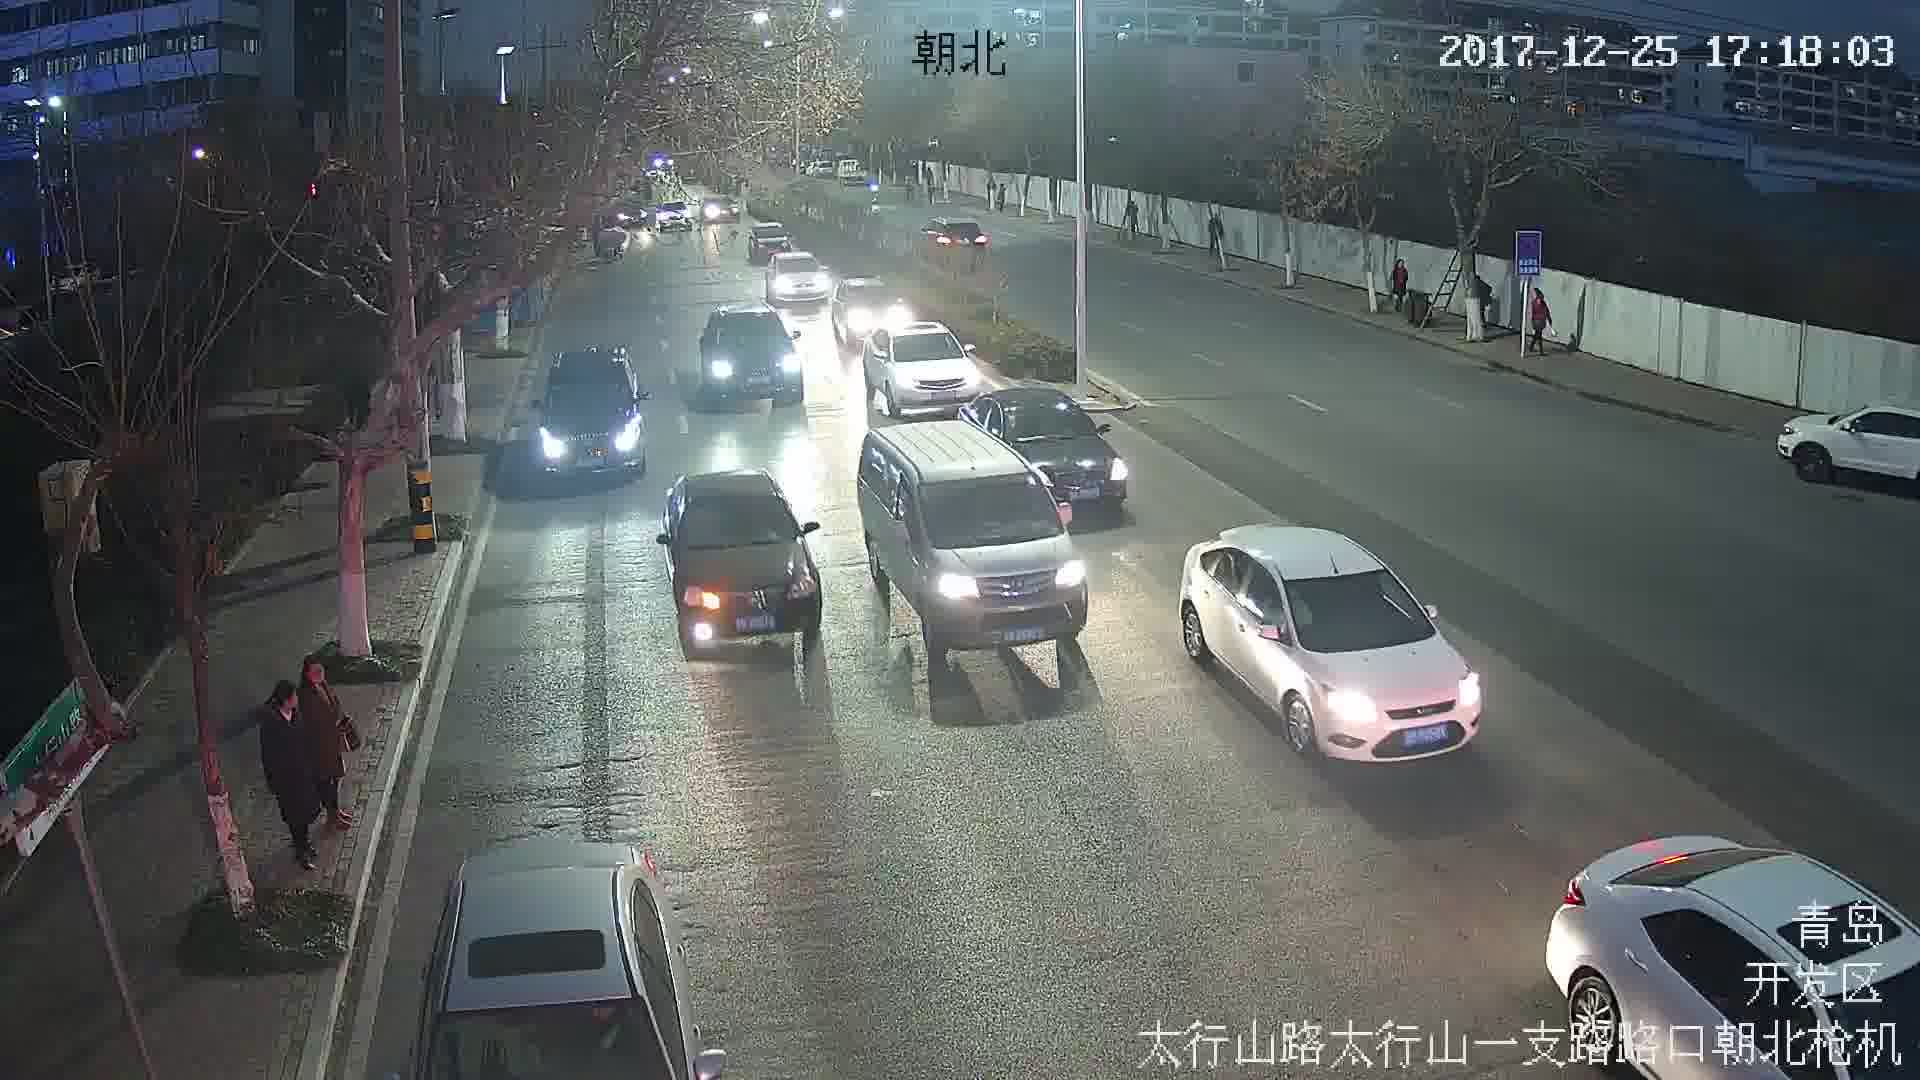car: (1174, 521, 1482, 762), (856, 428, 1091, 645), (657, 470, 825, 646), (530, 344, 653, 491), (698, 302, 805, 409), (866, 328, 982, 414), (914, 219, 988, 270), (773, 259, 830, 302)
person: (303, 657, 360, 828), (267, 678, 320, 855), (1534, 288, 1559, 356), (1391, 259, 1410, 310)
